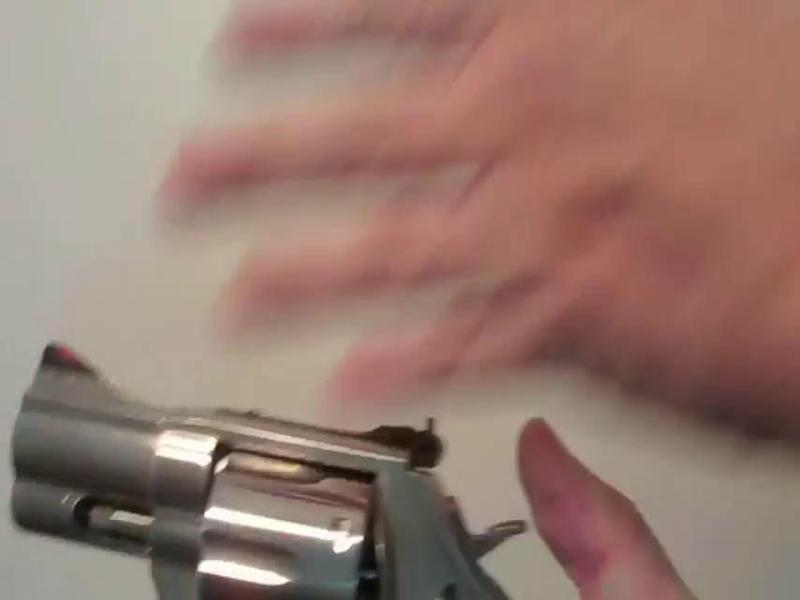Revolver: (6, 329, 541, 600)
